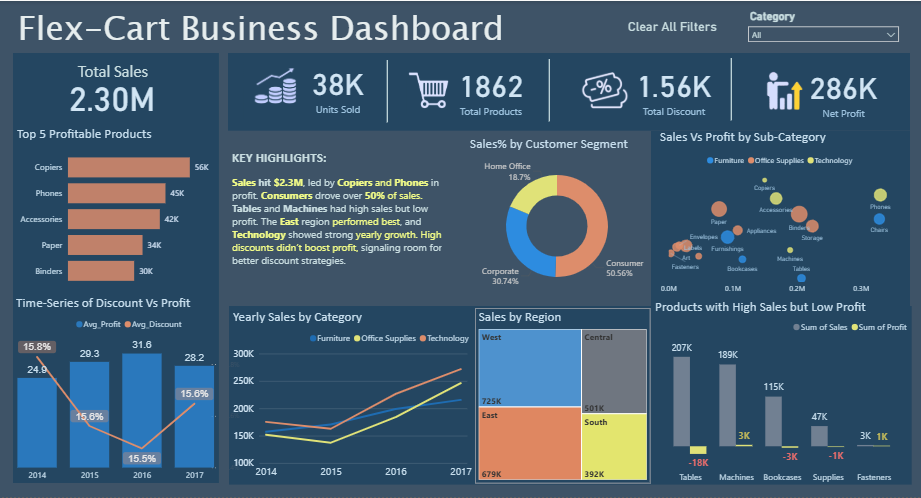

Layout of this report page (visuals, bound fields, positions):
{"tool":"powerbi","page":{"name":"Page 1","canvas":[1500,800],"ordinal":0},"visuals":[{"type":"shape","box":[27.4,83.9,332.3,693.5],"z":0},{"type":"shape","box":[374.5,83.6,1100,125.5],"z":1000},{"type":"card","fields":{"Values":["superstore_dataset.Total Discount"]},"box":[1001.6,87.1,183.9,109.7],"z":2000},{"type":"card","fields":{"Values":["superstore_dataset.Units Sold"]},"box":[459.7,74.2,183.9,130.6],"z":3000},{"type":"card","fields":{"Values":["superstore_dataset.Total Products"]},"box":[687.1,90.3,222.6,103.2],"z":4000},{"type":"card","fields":{"Values":["superstore_dataset.Net Profit"]},"box":[1258.1,88.7,217.7,114.5],"z":5000},{"type":"card","title":"TOTAL SALES","fields":{"Values":["superstore_dataset.total sales"]},"box":[50,100,274.2,103.2],"z":6000},{"type":"shape","box":[375,491.4,1100.8,287.7],"z":7000},{"type":"textbox","box":[30.2,0,1060.9,90.5],"z":8000},{"type":"clusteredBarChart","title":"Top 5 Profitable Products","fields":{"Category":["superstore_dataset.Sub-Category"],"Y":["superstore_dataset.Net Profit"]},"box":[29,201.6,330.6,272.6],"z":9000},{"type":"treemap","title":"Sales by Region","fields":{"Values":["Sum(superstore_dataset.Sales)"],"Group":["superstore_dataset.Region"]},"box":[772.6,494.4,283.2,283.2],"z":10000},{"type":"donutChart","title":"Sales% by Customer Segment","fields":{"Category":["superstore_dataset.Segment"],"Y":["Sum(superstore_dataset.Sales)"]},"box":[759.7,217.7,290.3,269.4],"z":11000},{"type":"lineClusteredColumnComboChart","title":"Time-Series of Discount Vs Profit","fields":{"Category":["superstore_dataset.Order Date.Variation.Date Hierarchy.Year"],"Y":["superstore_dataset.Avg_Profit"],"Y2":["superstore_dataset.Avg_Discount"]},"box":[27.4,474.2,377.4,309.7],"z":12000},{"type":"shape","box":[1056.5,209.7,417.7,559.7],"z":13000},{"type":"scatterChart","title":"Sales Vs Profit by Sub-Category","fields":{"Category":["superstore_dataset.Sub-Category"],"X":["Sum(superstore_dataset.Sales)"],"Y":["Sum(superstore_dataset.Profit)"],"Series":["superstore_dataset.Category"],"Size":["Sum(superstore_dataset.Quantity)"]},"box":[1066.1,206.5,400,275.8],"z":14000},{"type":"lineChart","title":"Yearly Sales by Category","fields":{"Category":["superstore_dataset.Order Date.Variation.Date Hierarchy.Year"],"Y":["Sum(superstore_dataset.Sales)"],"Series":["superstore_dataset.Category"]},"box":[377.4,496.8,395.2,283.9],"z":15000},{"type":"clusteredColumnChart","title":"Products with High Sales but Low Profit","fields":{"Category":["superstore_dataset.Sub-Category"],"Y":["Sum(superstore_dataset.Sales)","Sum(superstore_dataset.Profit)"]},"box":[1058.1,480.6,421,306.5],"z":16000},{"type":"image","box":[929,96.8,108.1,104.8],"z":17000},{"type":"image","box":[1224.2,101.6,95.2,101.6],"z":18000},{"type":"image","box":[374.2,82.3,153.2,112.9],"z":19000},{"type":"image","box":[637.1,101.6,124.2,85.5],"z":20000},{"type":"textbox","box":[43.6,92.2,289.9,52],"z":21000},{"type":"textbox","title":"KEY HIGHLIGHTS","box":[375.8,233.9,348.4,246.8],"z":22000},{"type":"slicer","fields":{"Values":["superstore_dataset.Category"]},"box":[1203.1,7.7,263.3,62],"z":23000},{"type":"actionButton","title":"Clear All Filters","box":[1019.8,28.4,183.3,46.5],"z":24000},{"type":"shape","box":[511.2,95.5,239.7,100.6],"z":25000},{"type":"shape","box":[772.6,93.9,239.7,100.6],"z":26000},{"type":"shape","box":[1065.9,92.2,239.7,100.6],"z":27000}]}

Visuals, with their boxes in screenshot pixels (x1, y1, x2, y2), scaled from the page's 1500x800 canvas onto the 921x498 screenshot:
shape: region(17, 52, 221, 484)
shape: region(230, 52, 905, 130)
card - superstore_dataset.Total Discount: region(615, 54, 728, 123)
card - superstore_dataset.Units Sold: region(282, 46, 395, 127)
card - superstore_dataset.Total Products: region(422, 56, 559, 120)
card - superstore_dataset.Net Profit: region(772, 55, 906, 126)
"TOTAL SALES" card: region(31, 62, 199, 126)
shape: region(230, 306, 906, 485)
textbox: region(19, 0, 670, 56)
"Top 5 Profitable Products" clusteredBarChart: region(18, 125, 221, 295)
"Sales by Region" treemap: region(474, 308, 648, 484)
"Sales% by Customer Segment" donutChart: region(466, 136, 645, 303)
"Time-Series of Discount Vs Profit" lineClusteredColumnComboChart: region(17, 295, 249, 488)
shape: region(649, 131, 905, 479)
"Sales Vs Profit by Sub-Category" scatterChart: region(655, 129, 900, 300)
"Yearly Sales by Category" lineChart: region(232, 309, 474, 486)
"Products with High Sales but Low Profit" clusteredColumnChart: region(650, 299, 908, 490)
image: region(570, 60, 637, 125)
image: region(752, 63, 810, 126)
image: region(230, 51, 324, 122)
image: region(391, 63, 467, 116)
textbox: region(27, 57, 205, 90)
"KEY HIGHLIGHTS" textbox: region(231, 146, 445, 299)
slicer - superstore_dataset.Category: region(739, 5, 900, 43)
"Clear All Filters" actionButton: region(626, 18, 739, 47)
shape: region(314, 59, 461, 122)
shape: region(474, 58, 622, 121)
shape: region(654, 57, 802, 120)
